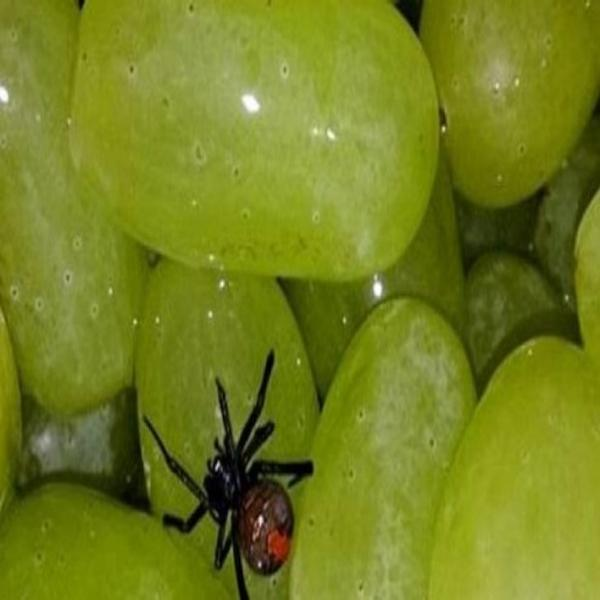Redback_Spider: (141, 349, 314, 599)
